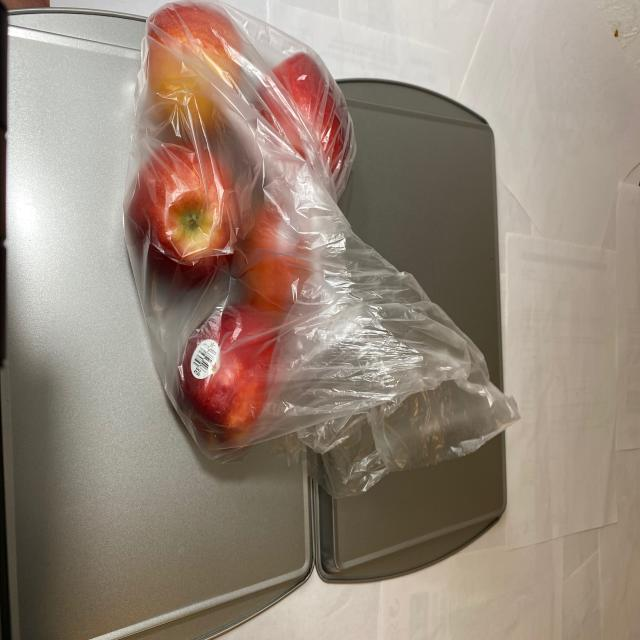apple: (125, 5, 366, 463)
